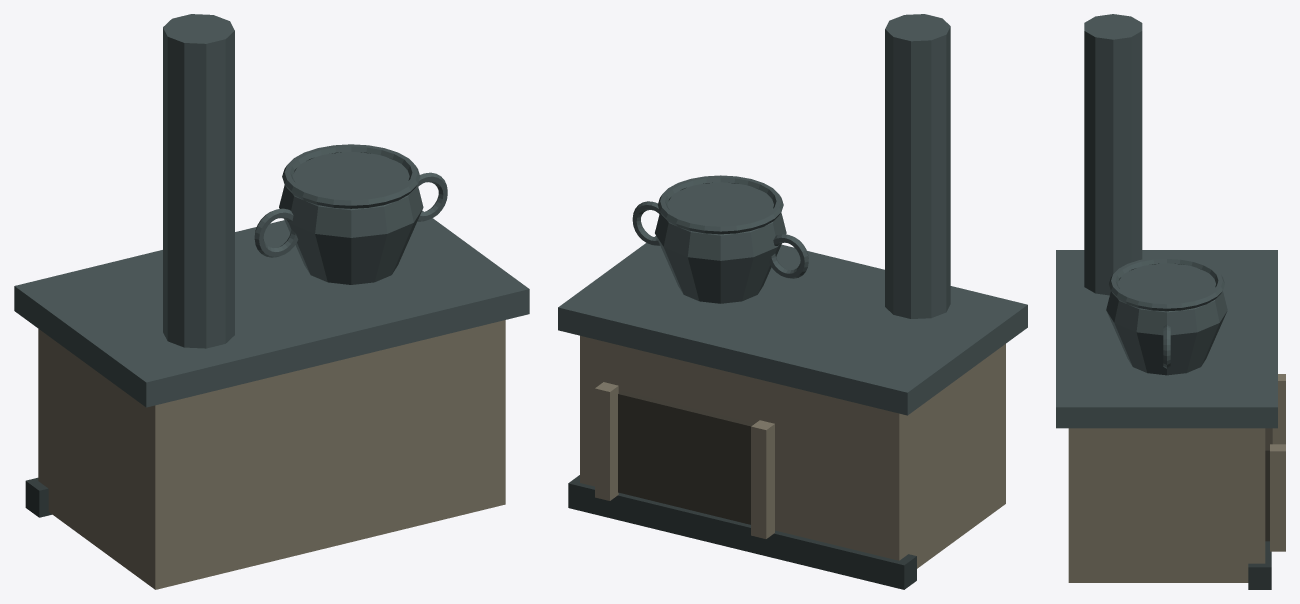
The model's file is S2_GalleyHearth.fbx.
3 renders of one model, left to right at view 1: azimuth 30°, elevation 25°; view 2: azimuth 150°, elevation 25°; view 3: azimuth 270°, elevation 25°, orthographic. The views are drawn at different scales.
Parts seen in each view (by area): view 1: S2_GalleyHearth; view 2: S2_GalleyHearth; view 3: S2_GalleyHearth.
Part boxes in pixels (left/top/right/bottom): S2_GalleyHearth: left=14, top=14, right=529, bottom=589; S2_GalleyHearth: left=558, top=14, right=1027, bottom=589; S2_GalleyHearth: left=1056, top=14, right=1285, bottom=589.
Bounding box in the file's own units: 2.08 × 2.74 × 1.29.
